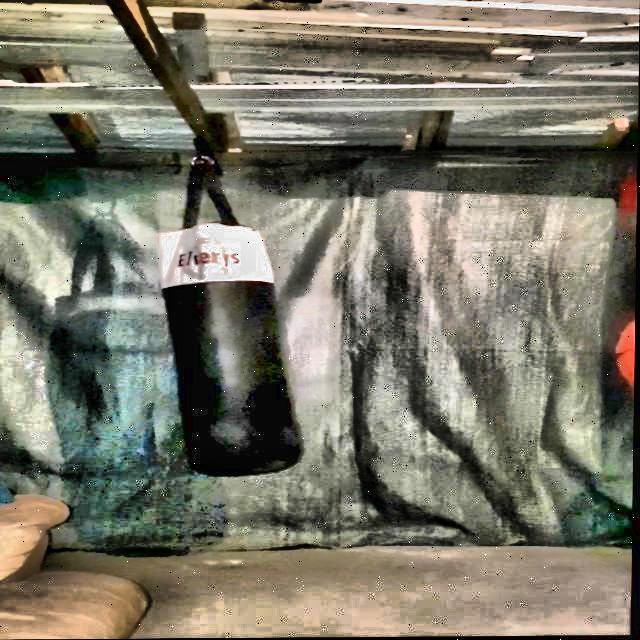boxing-bag: (158, 134, 312, 479)
